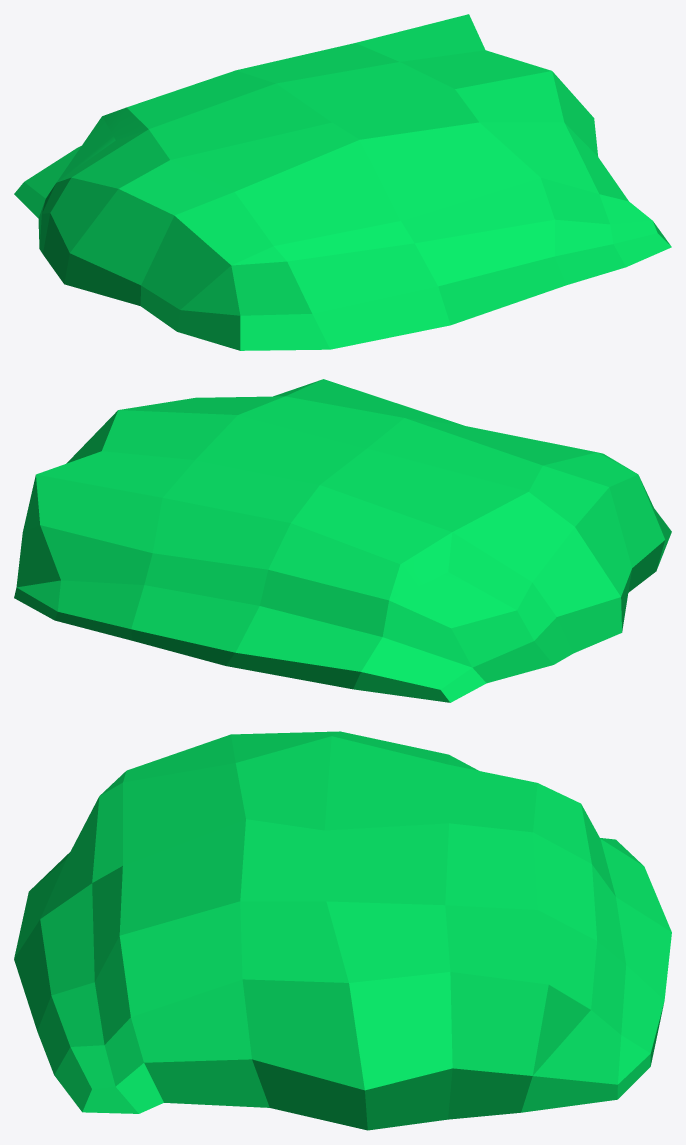
Rendered from LargeRock_02_Collider.fbx.
The picture shows the model from 3 angles, top to bottom: view 1: azimuth 30°, elevation 25°; view 2: azimuth 150°, elevation 25°; view 3: azimuth 270°, elevation 25°; orthographic projection. The views are drawn at different scales.
Parts seen in each view (by area): view 1: LargeRock_02_Collider; view 2: LargeRock_02_Collider; view 3: LargeRock_02_Collider.
Boxes of the visible parts, <box> form: LargeRock_02_Collider: <box>14,14,671,350</box>; LargeRock_02_Collider: <box>14,379,671,702</box>; LargeRock_02_Collider: <box>14,731,671,1130</box>.
Bounding box in the file's own units: 3749 × 796 × 3245.
